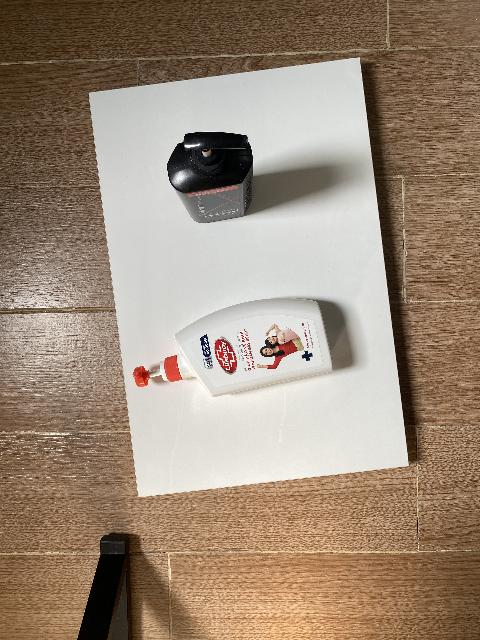X-men: (166, 132, 253, 224)
life-buoy: (133, 299, 333, 398)
